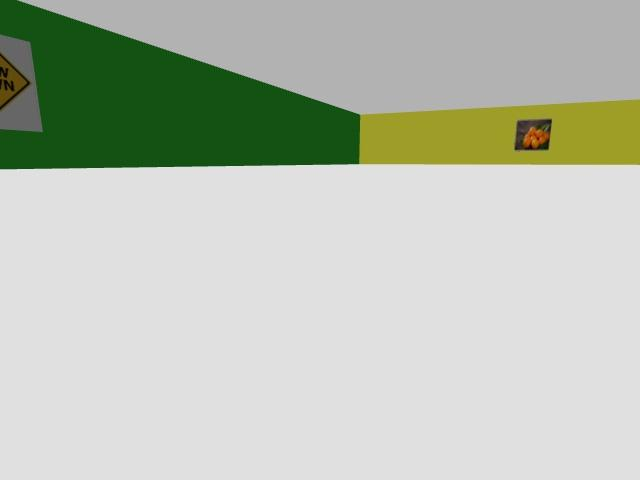orange: (523, 136, 531, 148), (538, 135, 547, 144), (535, 129, 543, 138), (531, 138, 538, 148), (528, 127, 535, 135), (544, 132, 549, 140), (524, 133, 530, 139), (530, 126, 536, 131), (545, 131, 550, 136)
slowsign: (0, 34, 42, 131)
